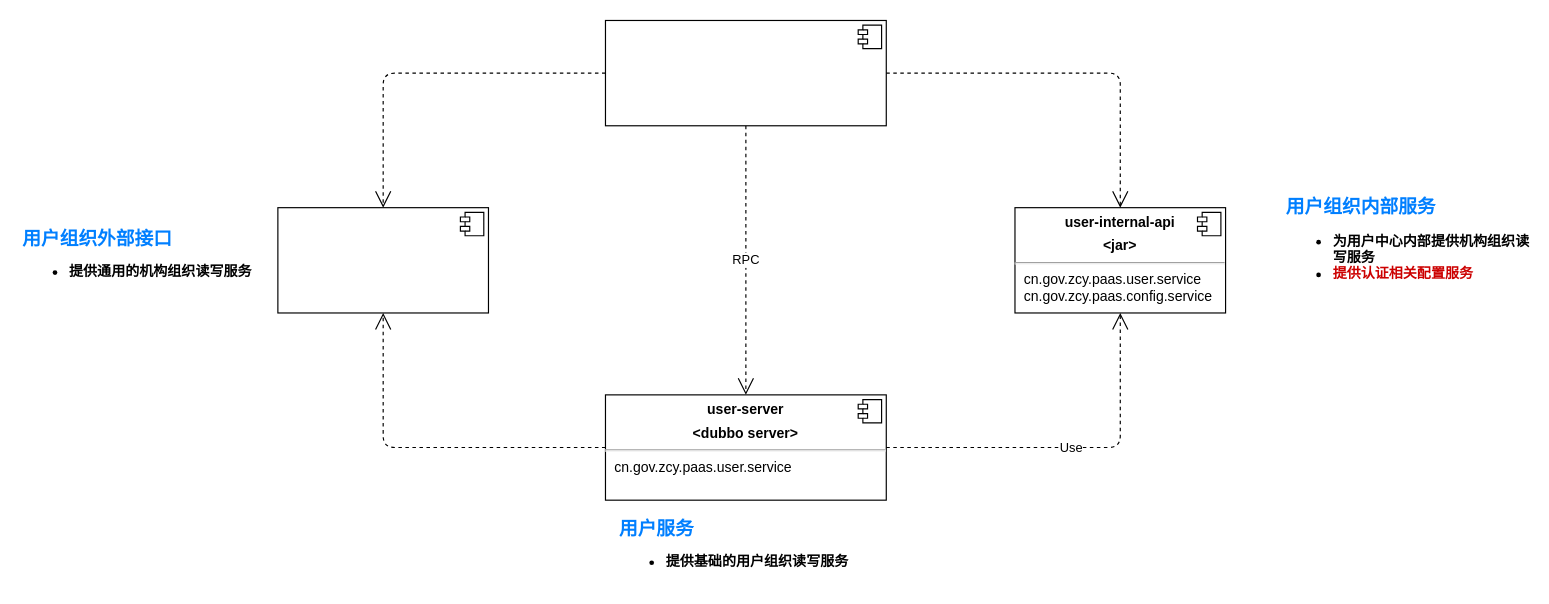
The diagram is 1549 pixels wide and 604 high, and some of its shapes have lost their labels. Each missing label, with the box of its shape:
user-api <jar> cn.gov.zcy.paas.user.service: (277, 207, 488, 313)
web-uaa <dubbo server> com.dtdream.vanyar.web.uaa.login: (604, 19, 886, 126)
